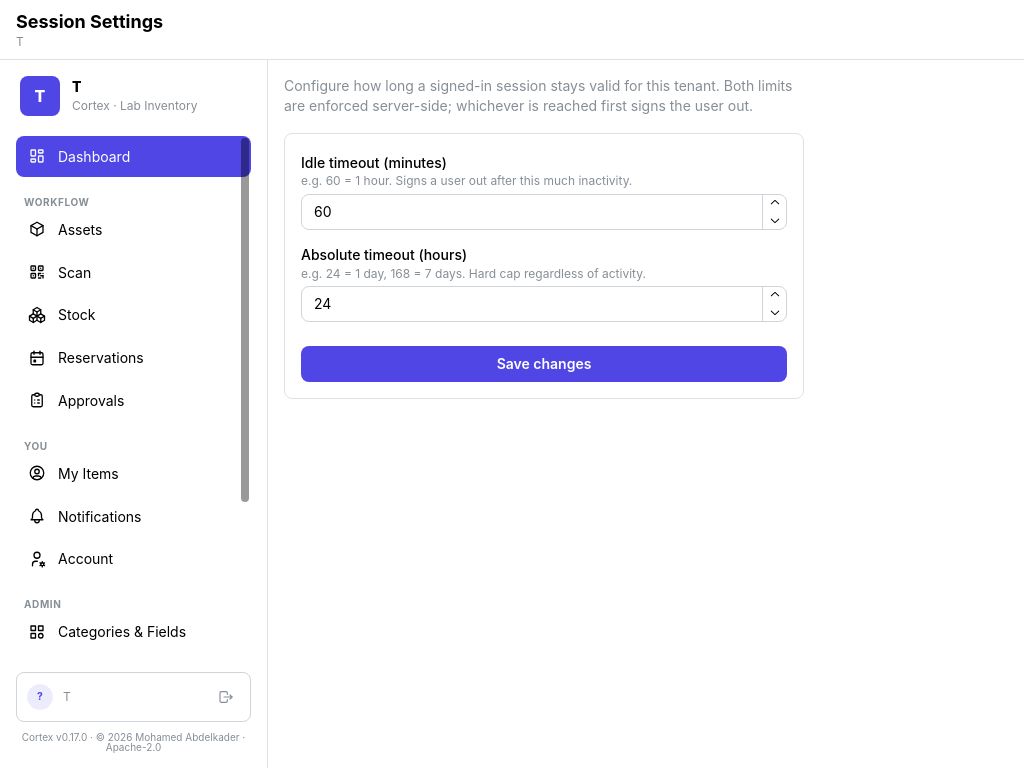
Scenario: SessionSettingsScreen › blocks submission with a client-side validation error when absolute hours is out of bounds
Replace the text in the field with test id "session-settings-absolute-hours" with "169": (544, 304) [301,286,787,322]
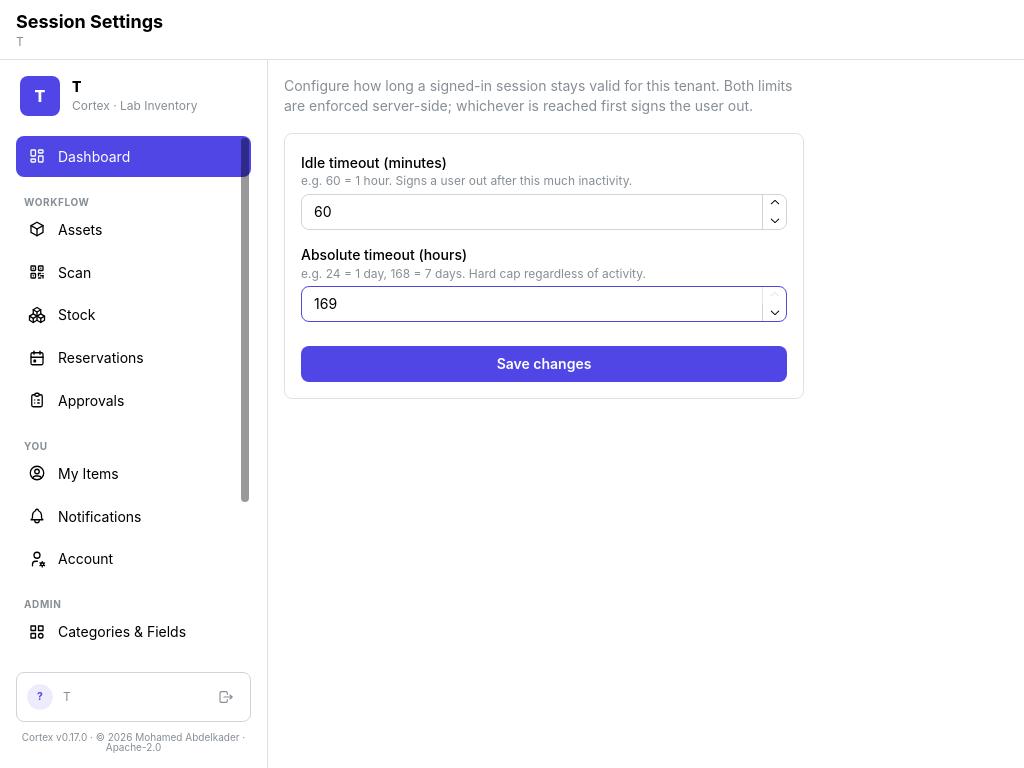
Click the button with test id "session-settings-submit": (544, 364) [301,346,787,382]
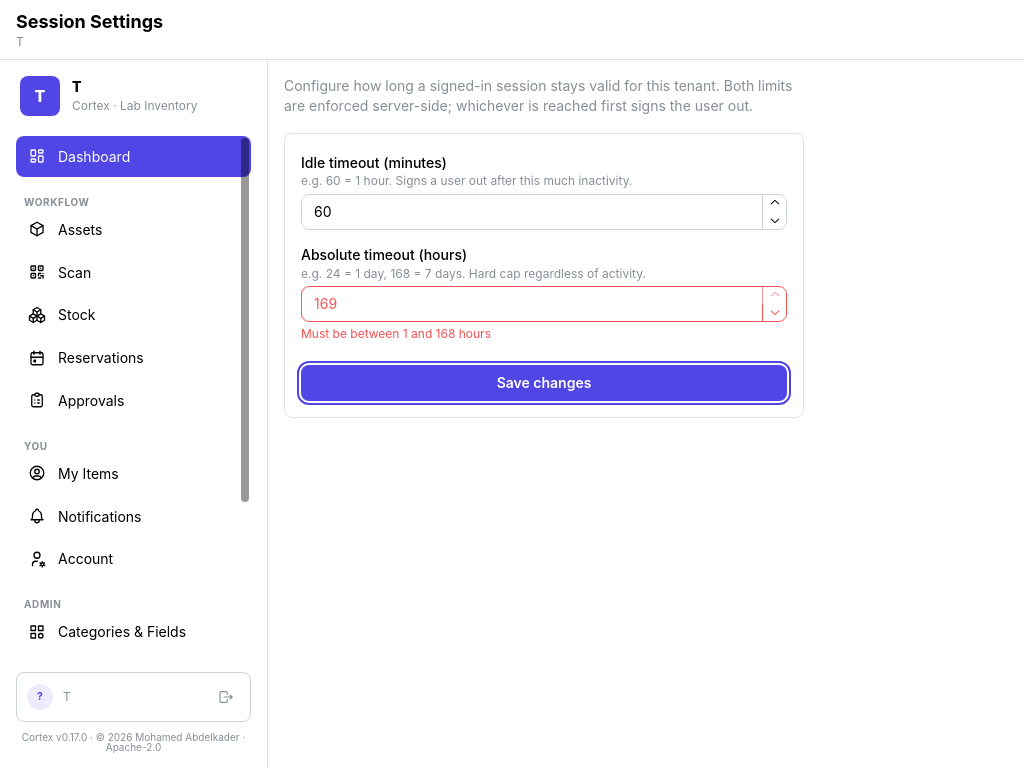
Check: the text "Must be between 1 and 168 hours" is shown, box [301,326,491,341]
